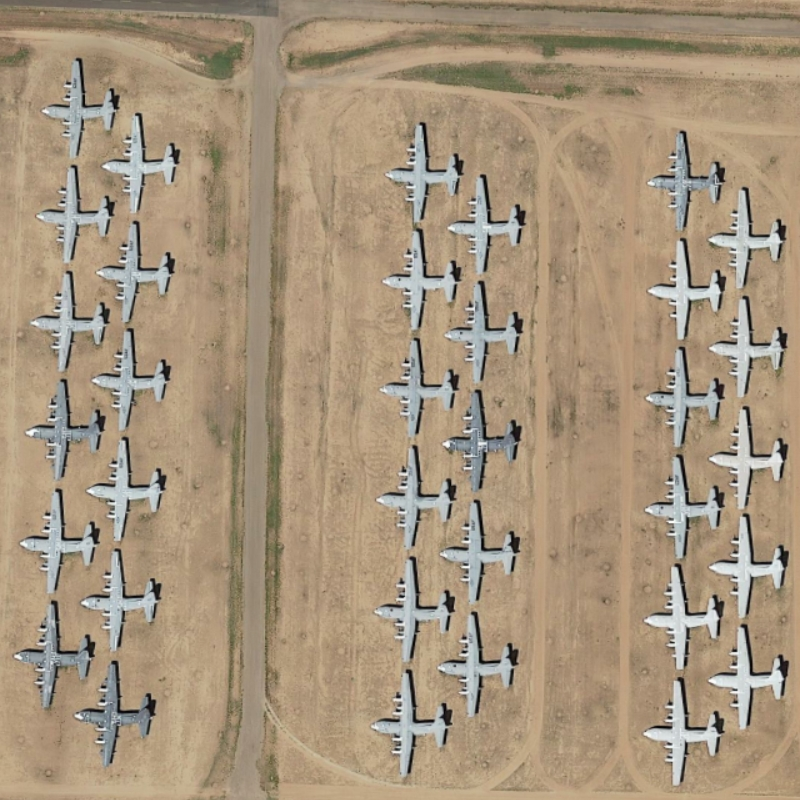A2: (71, 655, 164, 772), (83, 435, 176, 548), (440, 496, 529, 611), (704, 184, 797, 293), (382, 113, 470, 228), (640, 233, 730, 345), (433, 610, 526, 718), (641, 125, 734, 233), (638, 672, 726, 786), (9, 594, 94, 712), (439, 387, 535, 491), (442, 171, 536, 277), (369, 444, 461, 551), (701, 293, 793, 399), (21, 376, 112, 483), (640, 452, 731, 558), (374, 553, 457, 669), (79, 546, 167, 654), (367, 669, 454, 778), (92, 323, 178, 432), (376, 229, 467, 331), (704, 402, 789, 511), (100, 111, 187, 217), (643, 560, 722, 676), (707, 624, 792, 730), (26, 264, 109, 372), (444, 279, 530, 383), (17, 488, 99, 597), (641, 343, 723, 451), (709, 510, 789, 619), (41, 53, 120, 163), (95, 219, 176, 325), (378, 333, 457, 440), (34, 166, 115, 265)
